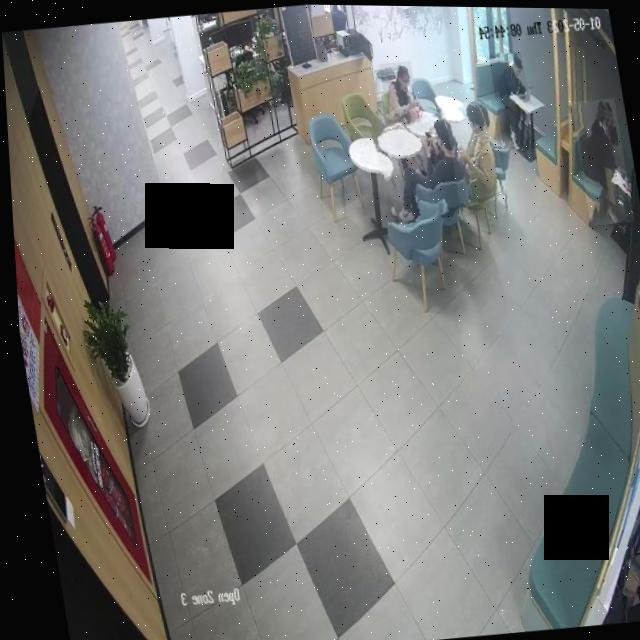person: (370, 109, 476, 222), (569, 95, 632, 224), (442, 98, 505, 201), (488, 49, 535, 150), (378, 59, 419, 123)
